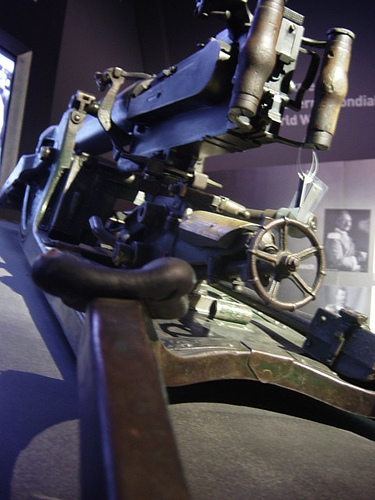rifle: (18, 6, 346, 319)
